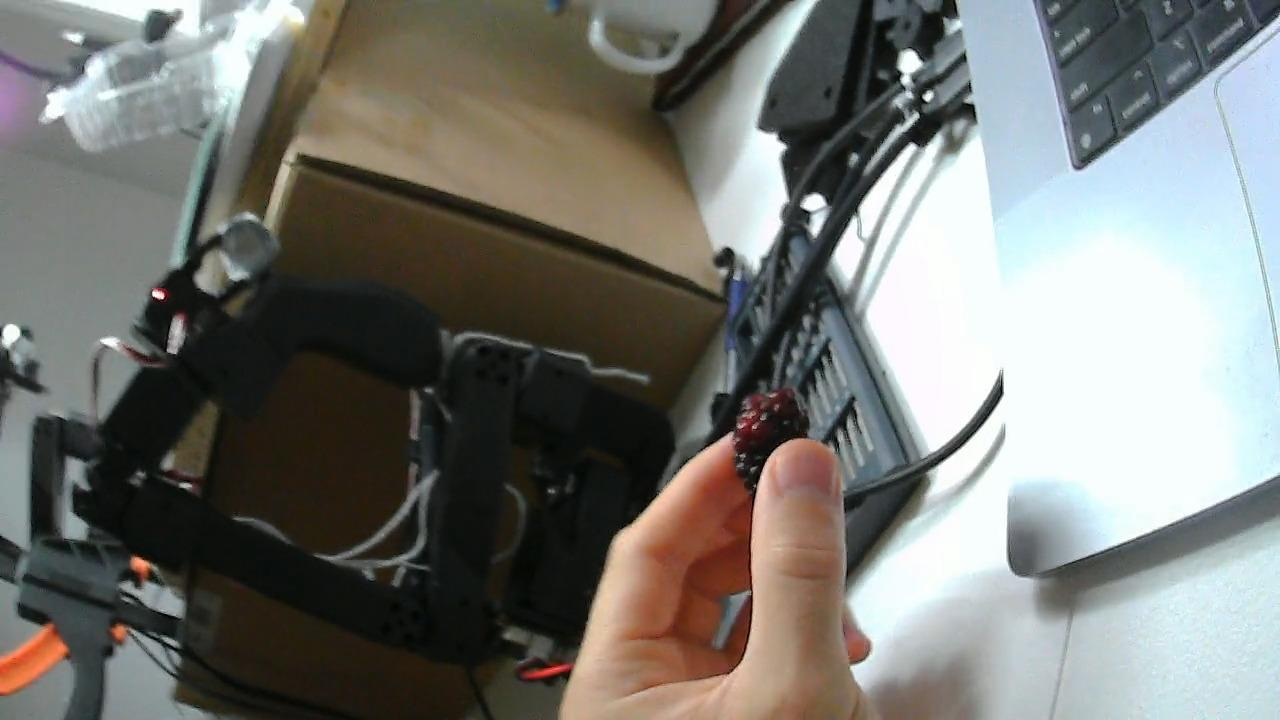berry: (732, 388, 808, 495)
red drouplet: (845, 388, 998, 507), (823, 390, 856, 449), (801, 337, 830, 381), (733, 417, 755, 443), (759, 392, 778, 413), (742, 394, 764, 411), (740, 408, 760, 421)
